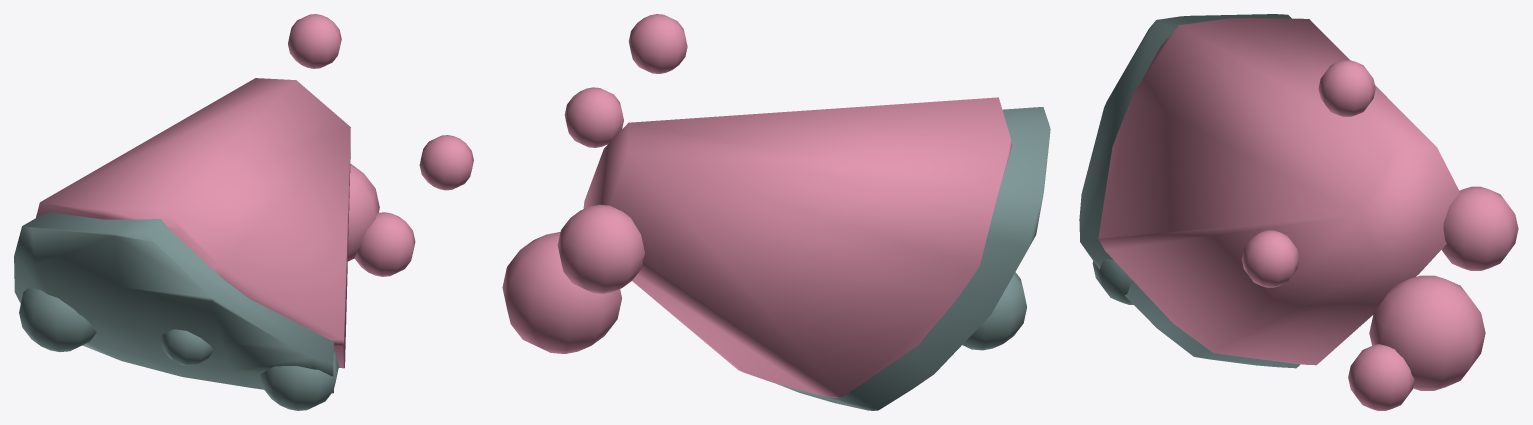
Rendered from chunk32.glb.
3 views of the same model, side by side, from view 1: azimuth 30°, elevation 25°; view 2: azimuth 150°, elevation 25°; view 3: azimuth 270°, elevation 25° (orthographic). The views are drawn at different scales.
Parts seen in each view (by area): view 1: flesh, skin; view 2: flesh, skin; view 3: flesh, skin.
Boxes of the visible parts, bbox=[...] form: flesh: bbox=[36, 14, 473, 368]; skin: bbox=[14, 212, 338, 410]; flesh: bbox=[502, 14, 1012, 398]; skin: bbox=[775, 107, 1050, 410]; flesh: bbox=[1098, 18, 1518, 410]; skin: bbox=[1079, 14, 1300, 368].
Size of the model in its own units: 0.9845 by 0.7119 by 0.8203.
